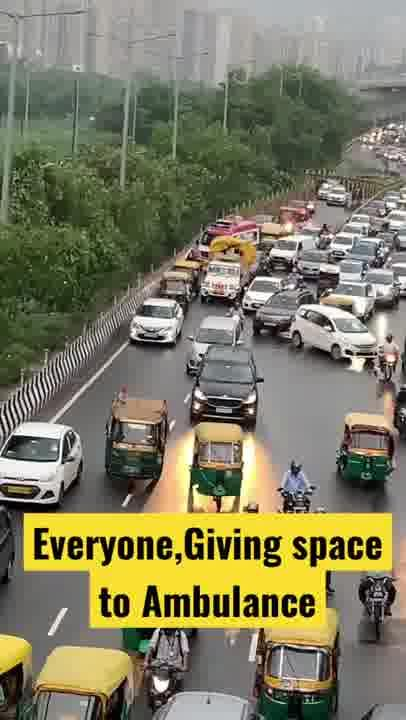AMBULANCE: (198, 218, 262, 241)
